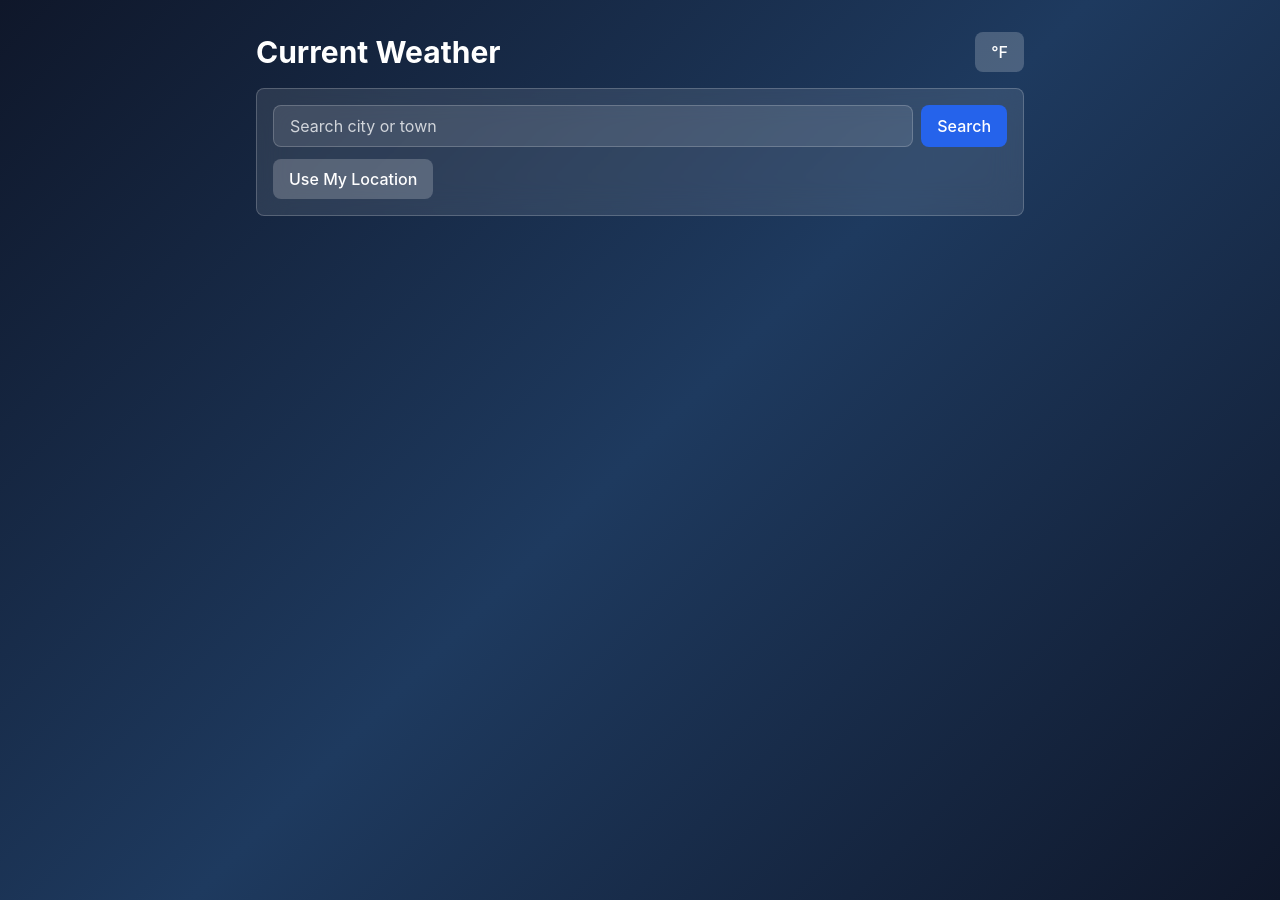
Test: App integration › shows location-not-found when geocoding returns empty list
In the field named "location search": (593, 126) left=273, top=105, right=913, bottom=147, type "InvalidXYZ"
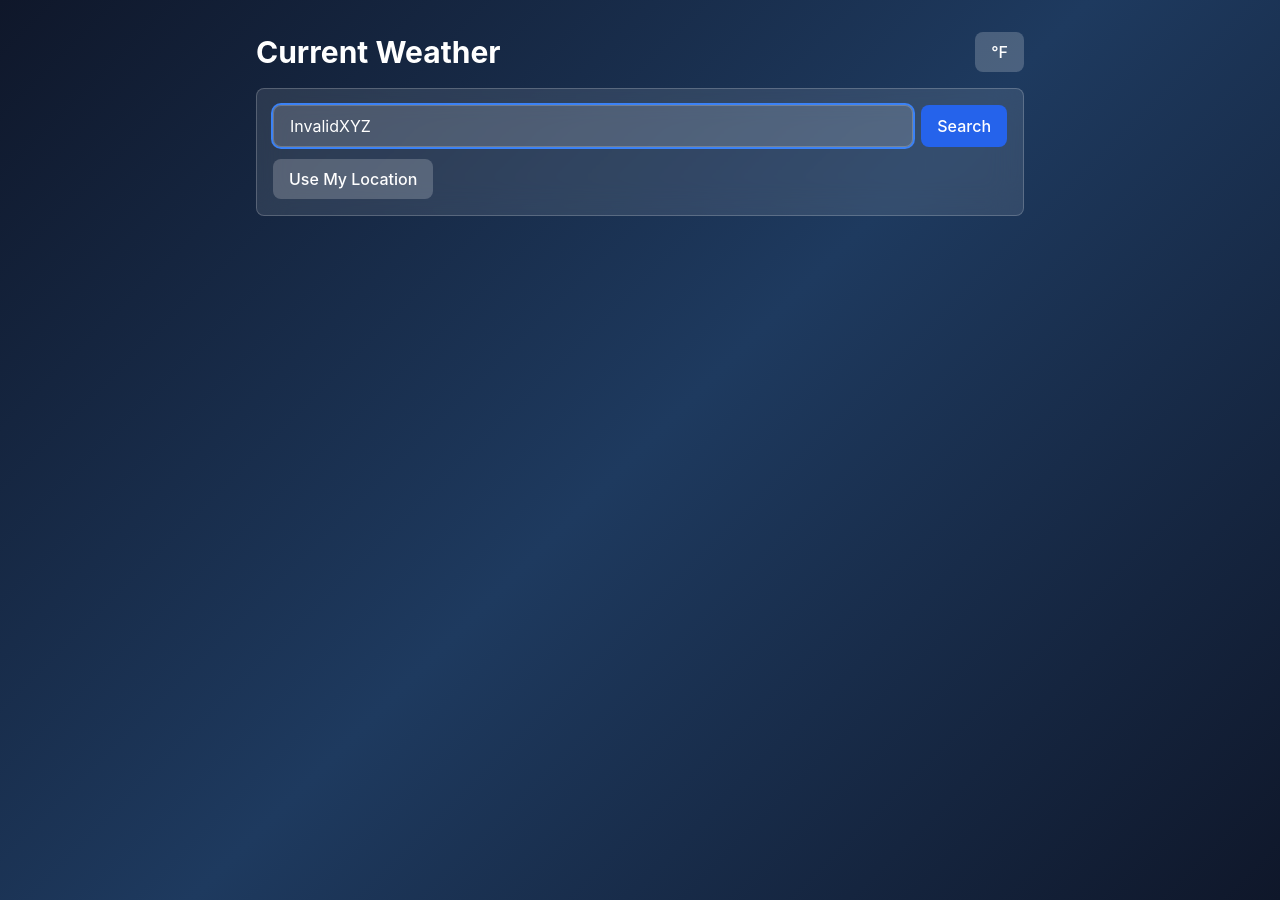
Click the button "Search": (964, 126) left=921, top=105, right=1007, bottom=147
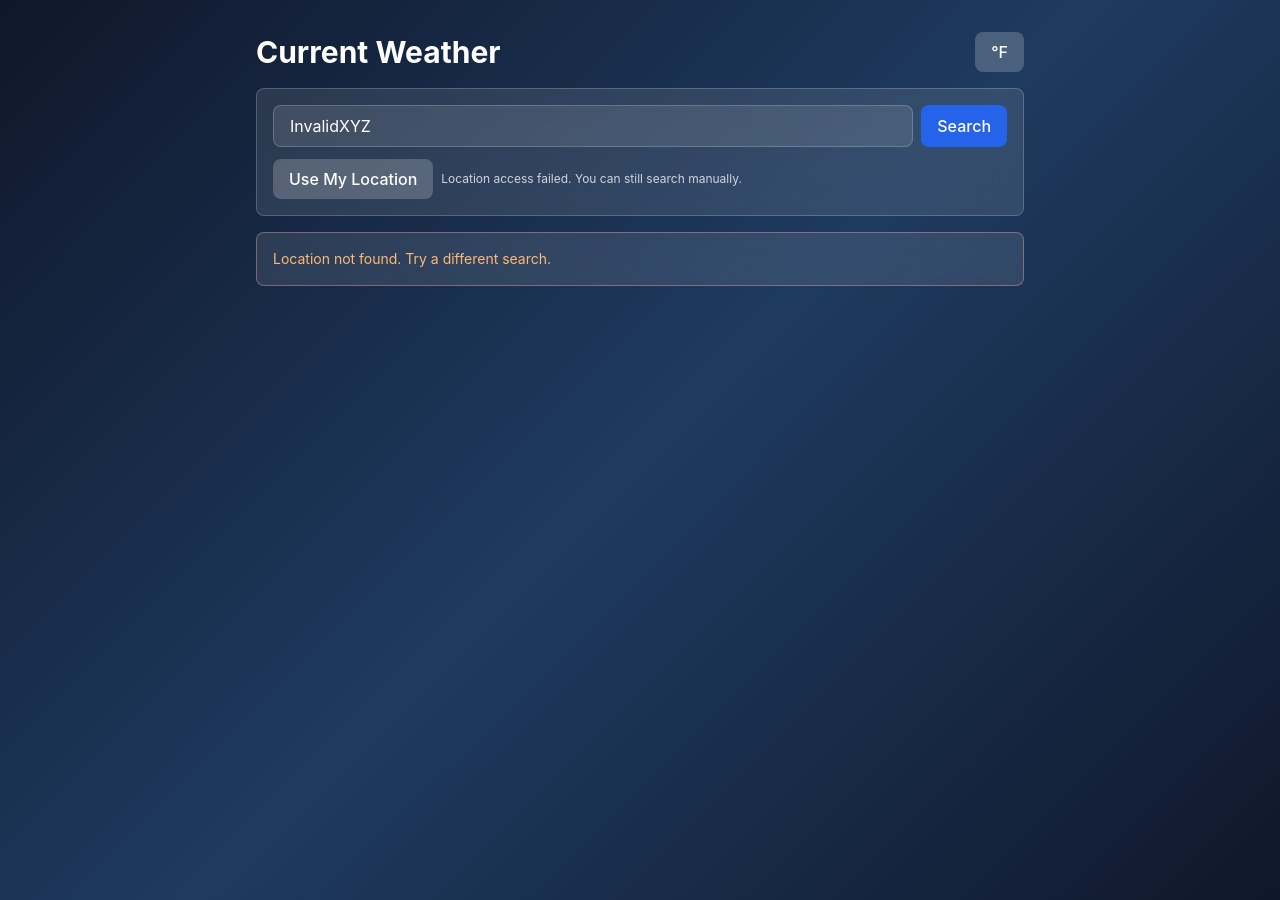
expect the message shows "Location not found": met, box left=273, top=250, right=551, bottom=267
